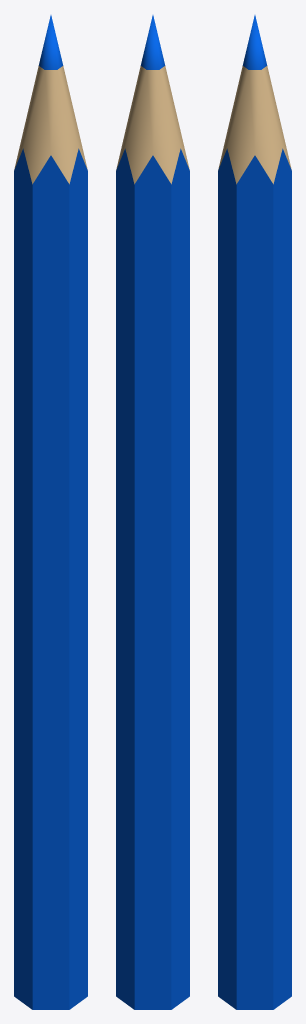
The model's file is Blue pencil.fbx.
3 views of the same model, side by side, from view 1: azimuth 90°, elevation 25°; view 2: azimuth 150°, elevation 25°; view 3: azimuth 270°, elevation 25° (orthographic).
Visible parts, largest first — view 1: Cylinder; view 2: Cylinder; view 3: Cylinder.
Part boxes in pixels (bbox=[...]): Cylinder: bbox=[14, 15, 87, 1009]; Cylinder: bbox=[116, 15, 189, 1009]; Cylinder: bbox=[218, 15, 291, 1009].
Size of the model in its own units: 0.0506 by 0.8565 by 0.0585.
